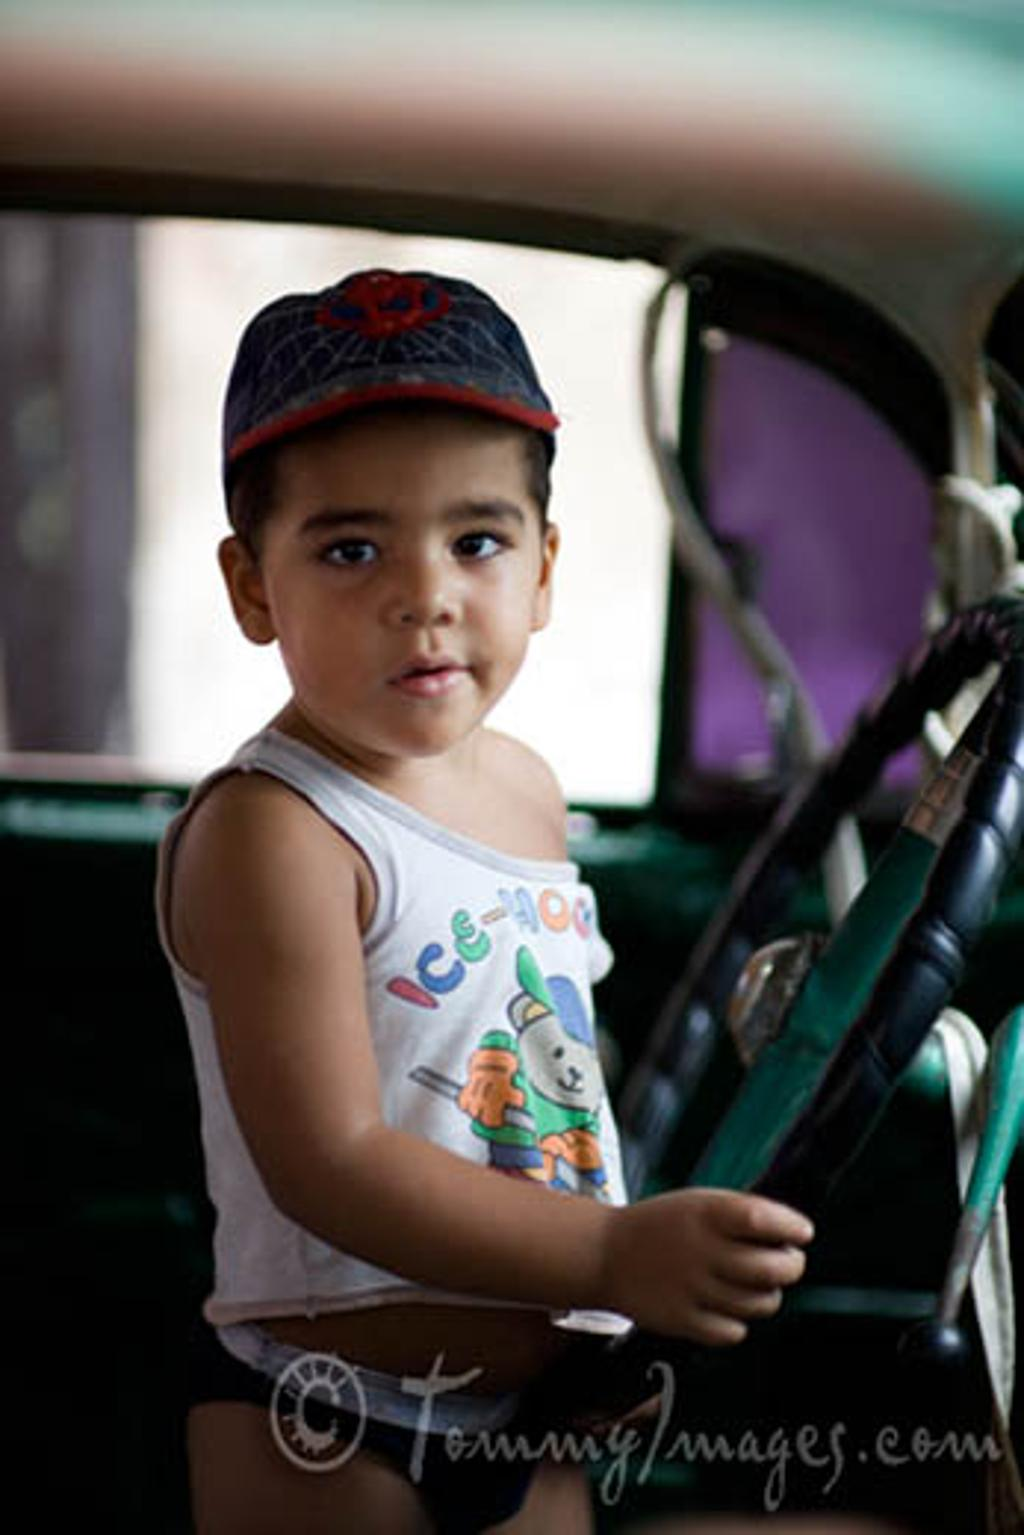face: (272, 386, 544, 751)
